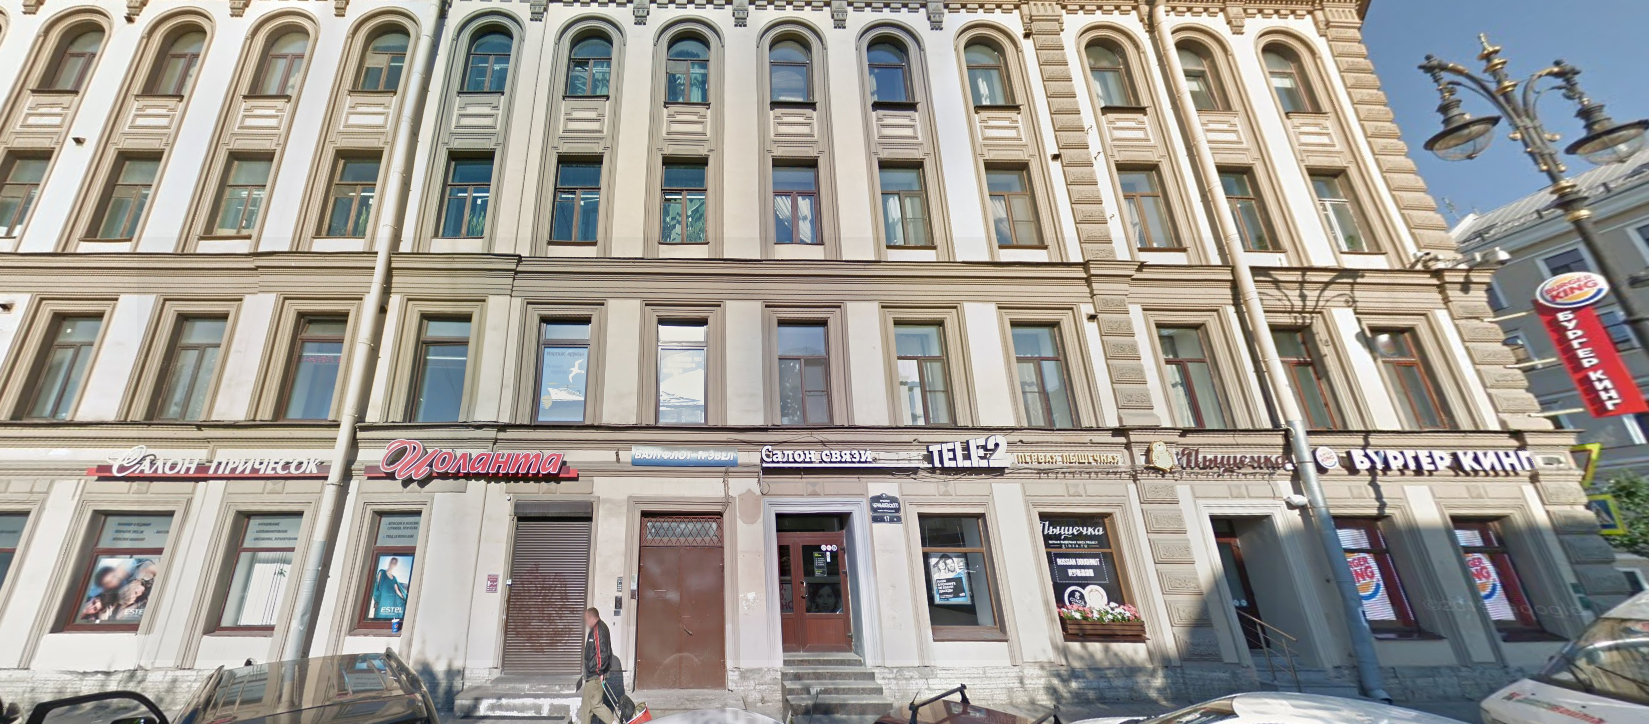cantilever: (1480, 252, 1648, 440)
door: (497, 512, 590, 675), (639, 541, 722, 692), (775, 530, 854, 651)
signboard: (361, 438, 575, 496), (80, 435, 325, 485), (1320, 439, 1546, 481), (756, 440, 893, 472), (932, 433, 1021, 482), (629, 440, 748, 469), (1143, 449, 1292, 472), (1021, 453, 1129, 470)
window: (65, 512, 174, 627), (1328, 514, 1420, 628), (1001, 319, 1079, 434), (1159, 318, 1235, 433), (219, 518, 296, 630), (927, 516, 989, 644), (22, 314, 97, 419), (149, 319, 226, 418), (274, 313, 345, 420), (1378, 323, 1445, 434), (1273, 323, 1340, 428), (1214, 160, 1287, 255), (357, 510, 415, 625), (653, 307, 707, 430), (410, 310, 468, 424), (1307, 170, 1385, 255), (90, 150, 162, 241), (776, 311, 830, 430), (1059, 514, 1117, 623), (1118, 163, 1190, 249), (894, 318, 953, 424), (533, 313, 589, 422), (873, 156, 936, 252), (320, 152, 386, 236), (985, 164, 1049, 253), (204, 154, 271, 233), (545, 155, 603, 246), (768, 156, 830, 240), (1262, 38, 1328, 115), (437, 149, 496, 234), (1082, 36, 1149, 107), (249, 20, 309, 99), (145, 25, 205, 99), (1175, 41, 1234, 114), (660, 157, 710, 243), (348, 27, 408, 93), (564, 25, 619, 95), (457, 24, 514, 92), (663, 27, 710, 105), (868, 37, 920, 105), (966, 37, 1018, 106), (767, 34, 811, 106)
